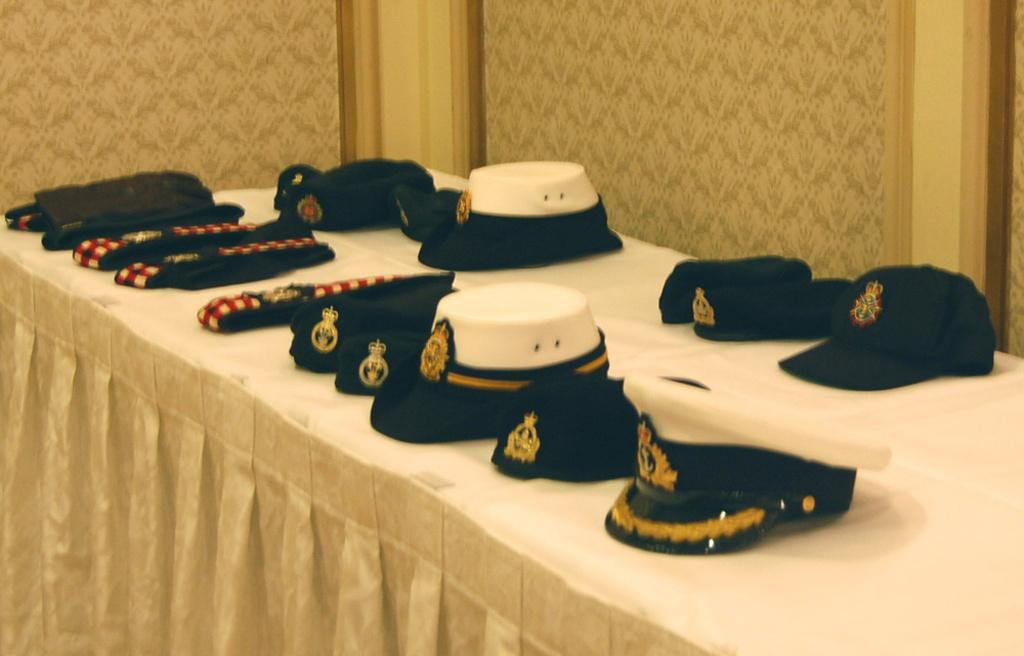Hat: (600, 370, 890, 554), (367, 279, 610, 442), (780, 262, 993, 393), (414, 157, 623, 270)
